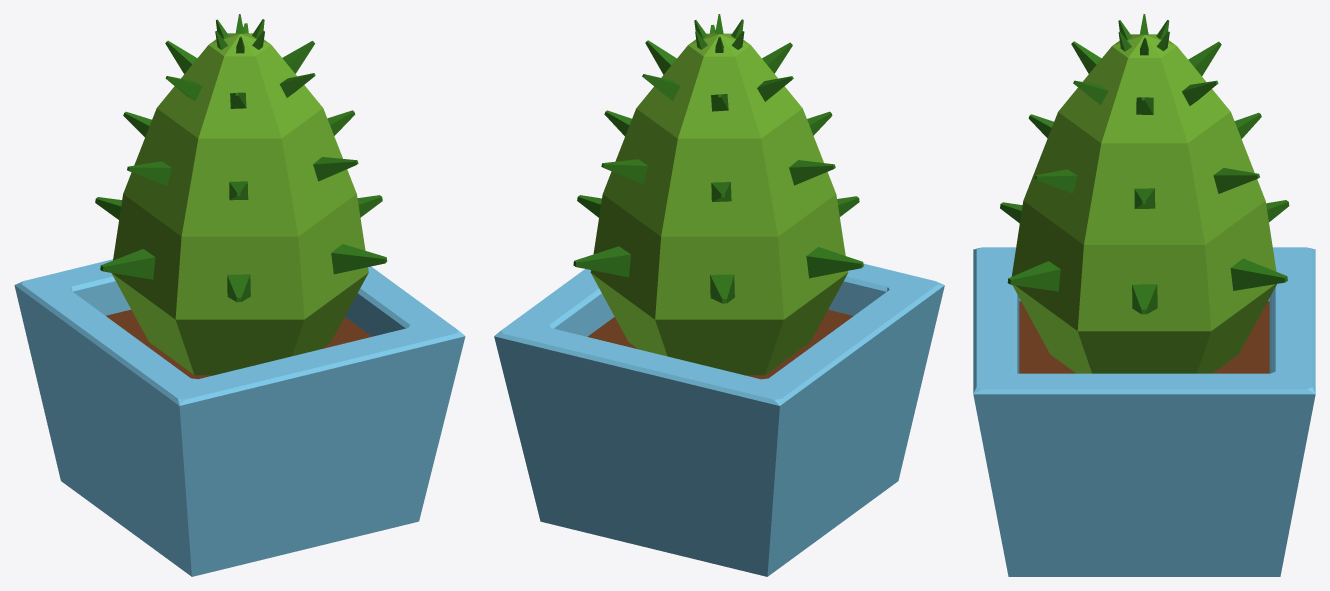
The model's file is Cactus1.fbx.
3 renders of one model, left to right at view 1: azimuth 30°, elevation 25°; view 2: azimuth 150°, elevation 25°; view 3: azimuth 270°, elevation 25°, orthographic. The views are drawn at different scales.
Parts seen in each view (by area): view 1: Cube.8158; view 2: Cube.8158; view 3: Cube.8158.
Boxes of the visible parts, box(x1,y1,x2,y2) form: Cube.8158: box(14, 14, 465, 576); Cube.8158: box(494, 14, 944, 576); Cube.8158: box(973, 14, 1315, 576).
Size of the model in its own units: 37.02 by 58.89 by 37.02.
Materials: 1 (1 with a texture image).
